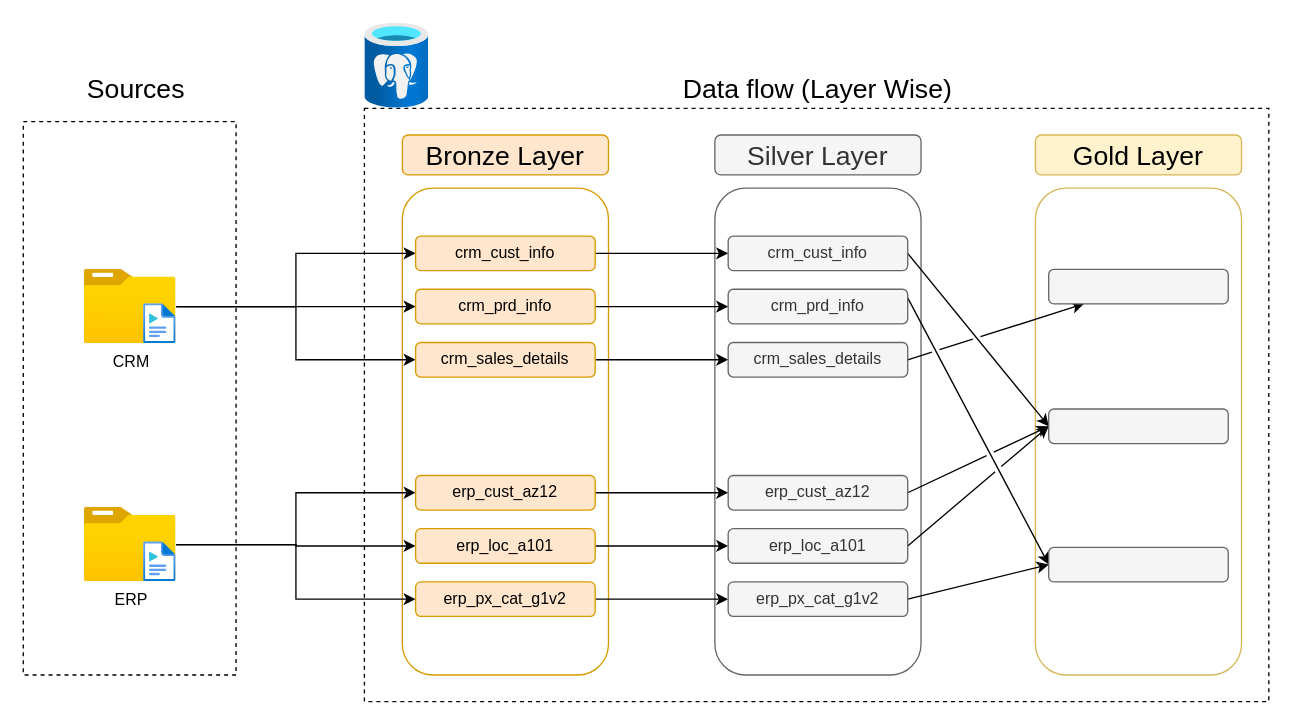
Image size: 1293x725. Some labels were removed from this diagram. Each missing label, with the centre of its shape:
"dim_customer" belongs at point 1137,426.
"dim_product" belongs at point 1137,564.
"fact_sales" belongs at point 1137,286.
